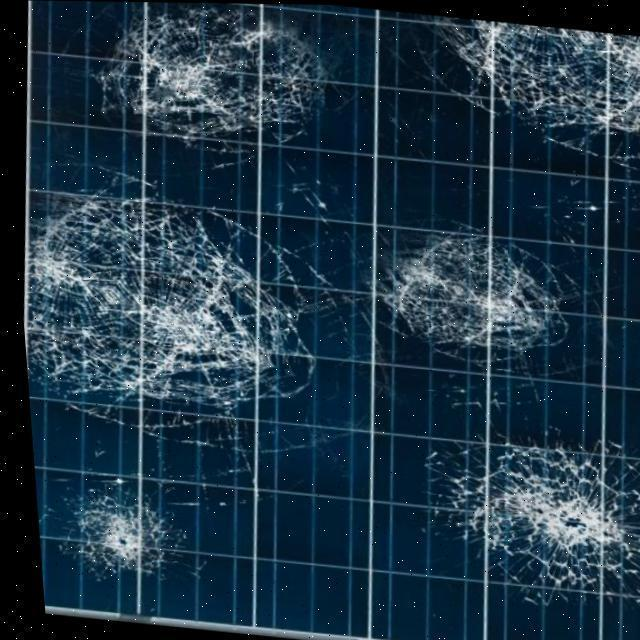Anomaly Solar Panel: (18, 0, 640, 640)
Structural Damage: (19, 155, 337, 463), (410, 418, 640, 640), (78, 1, 341, 168), (366, 200, 579, 403), (400, 11, 640, 183), (53, 475, 173, 605)
